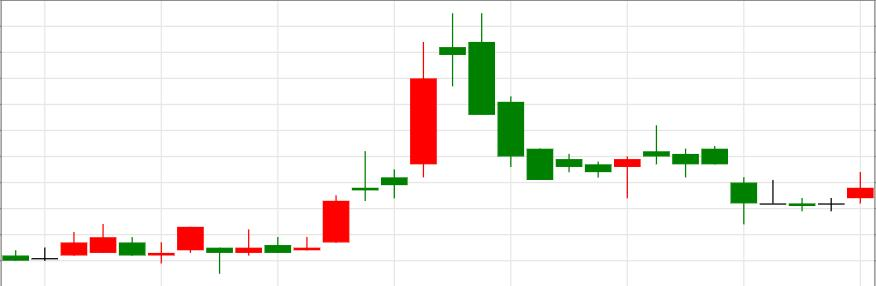evening_star_fall: (206, 12, 496, 275)
